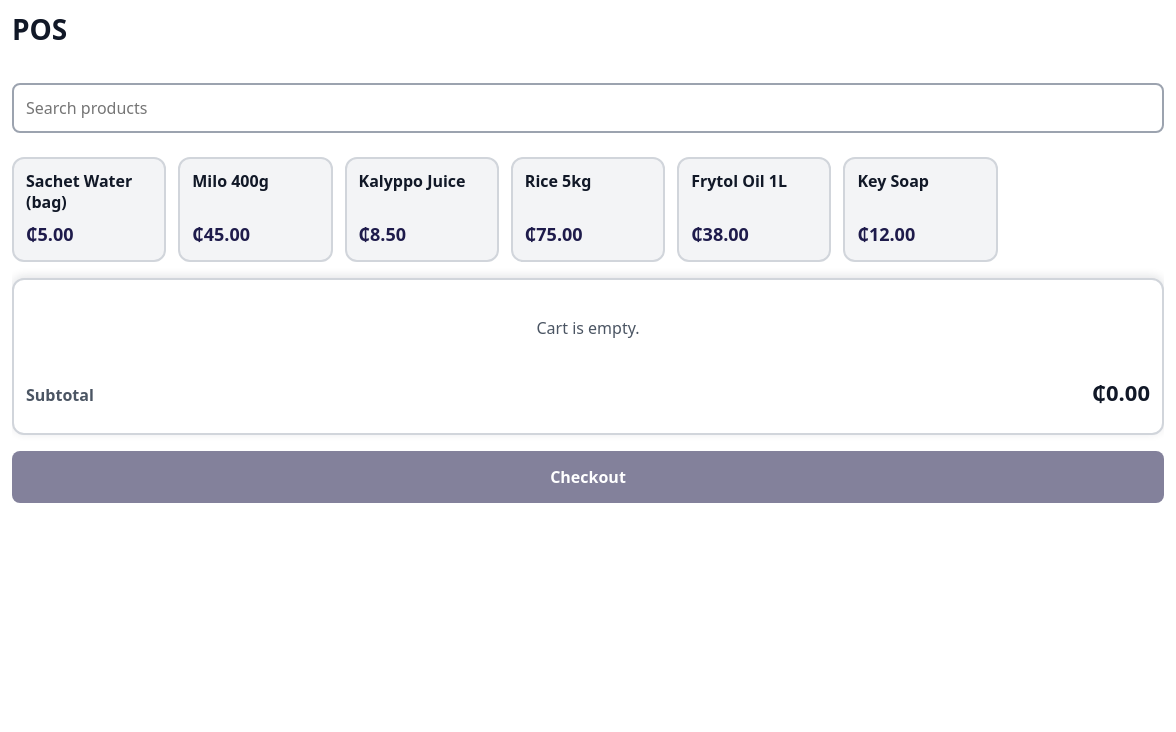
Test: PosScreen — product search › reports how many of the catalog are showing, but only while searching
Expected: the text "of 6 products" is not shown
Type "oil" into the search field labelled "Search products".
click(588, 108); type("oil")  # box [12,83,1164,133]
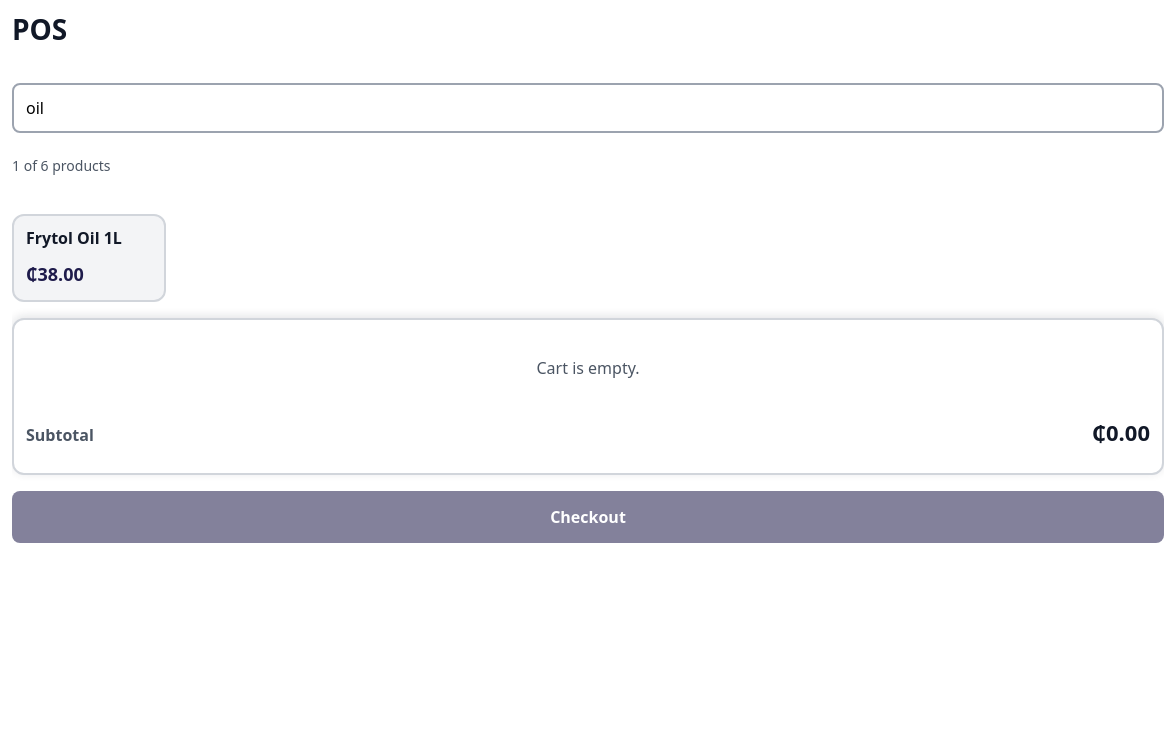
Expected: the text "1 of 6 products" is shown, [12,156,111,175]
